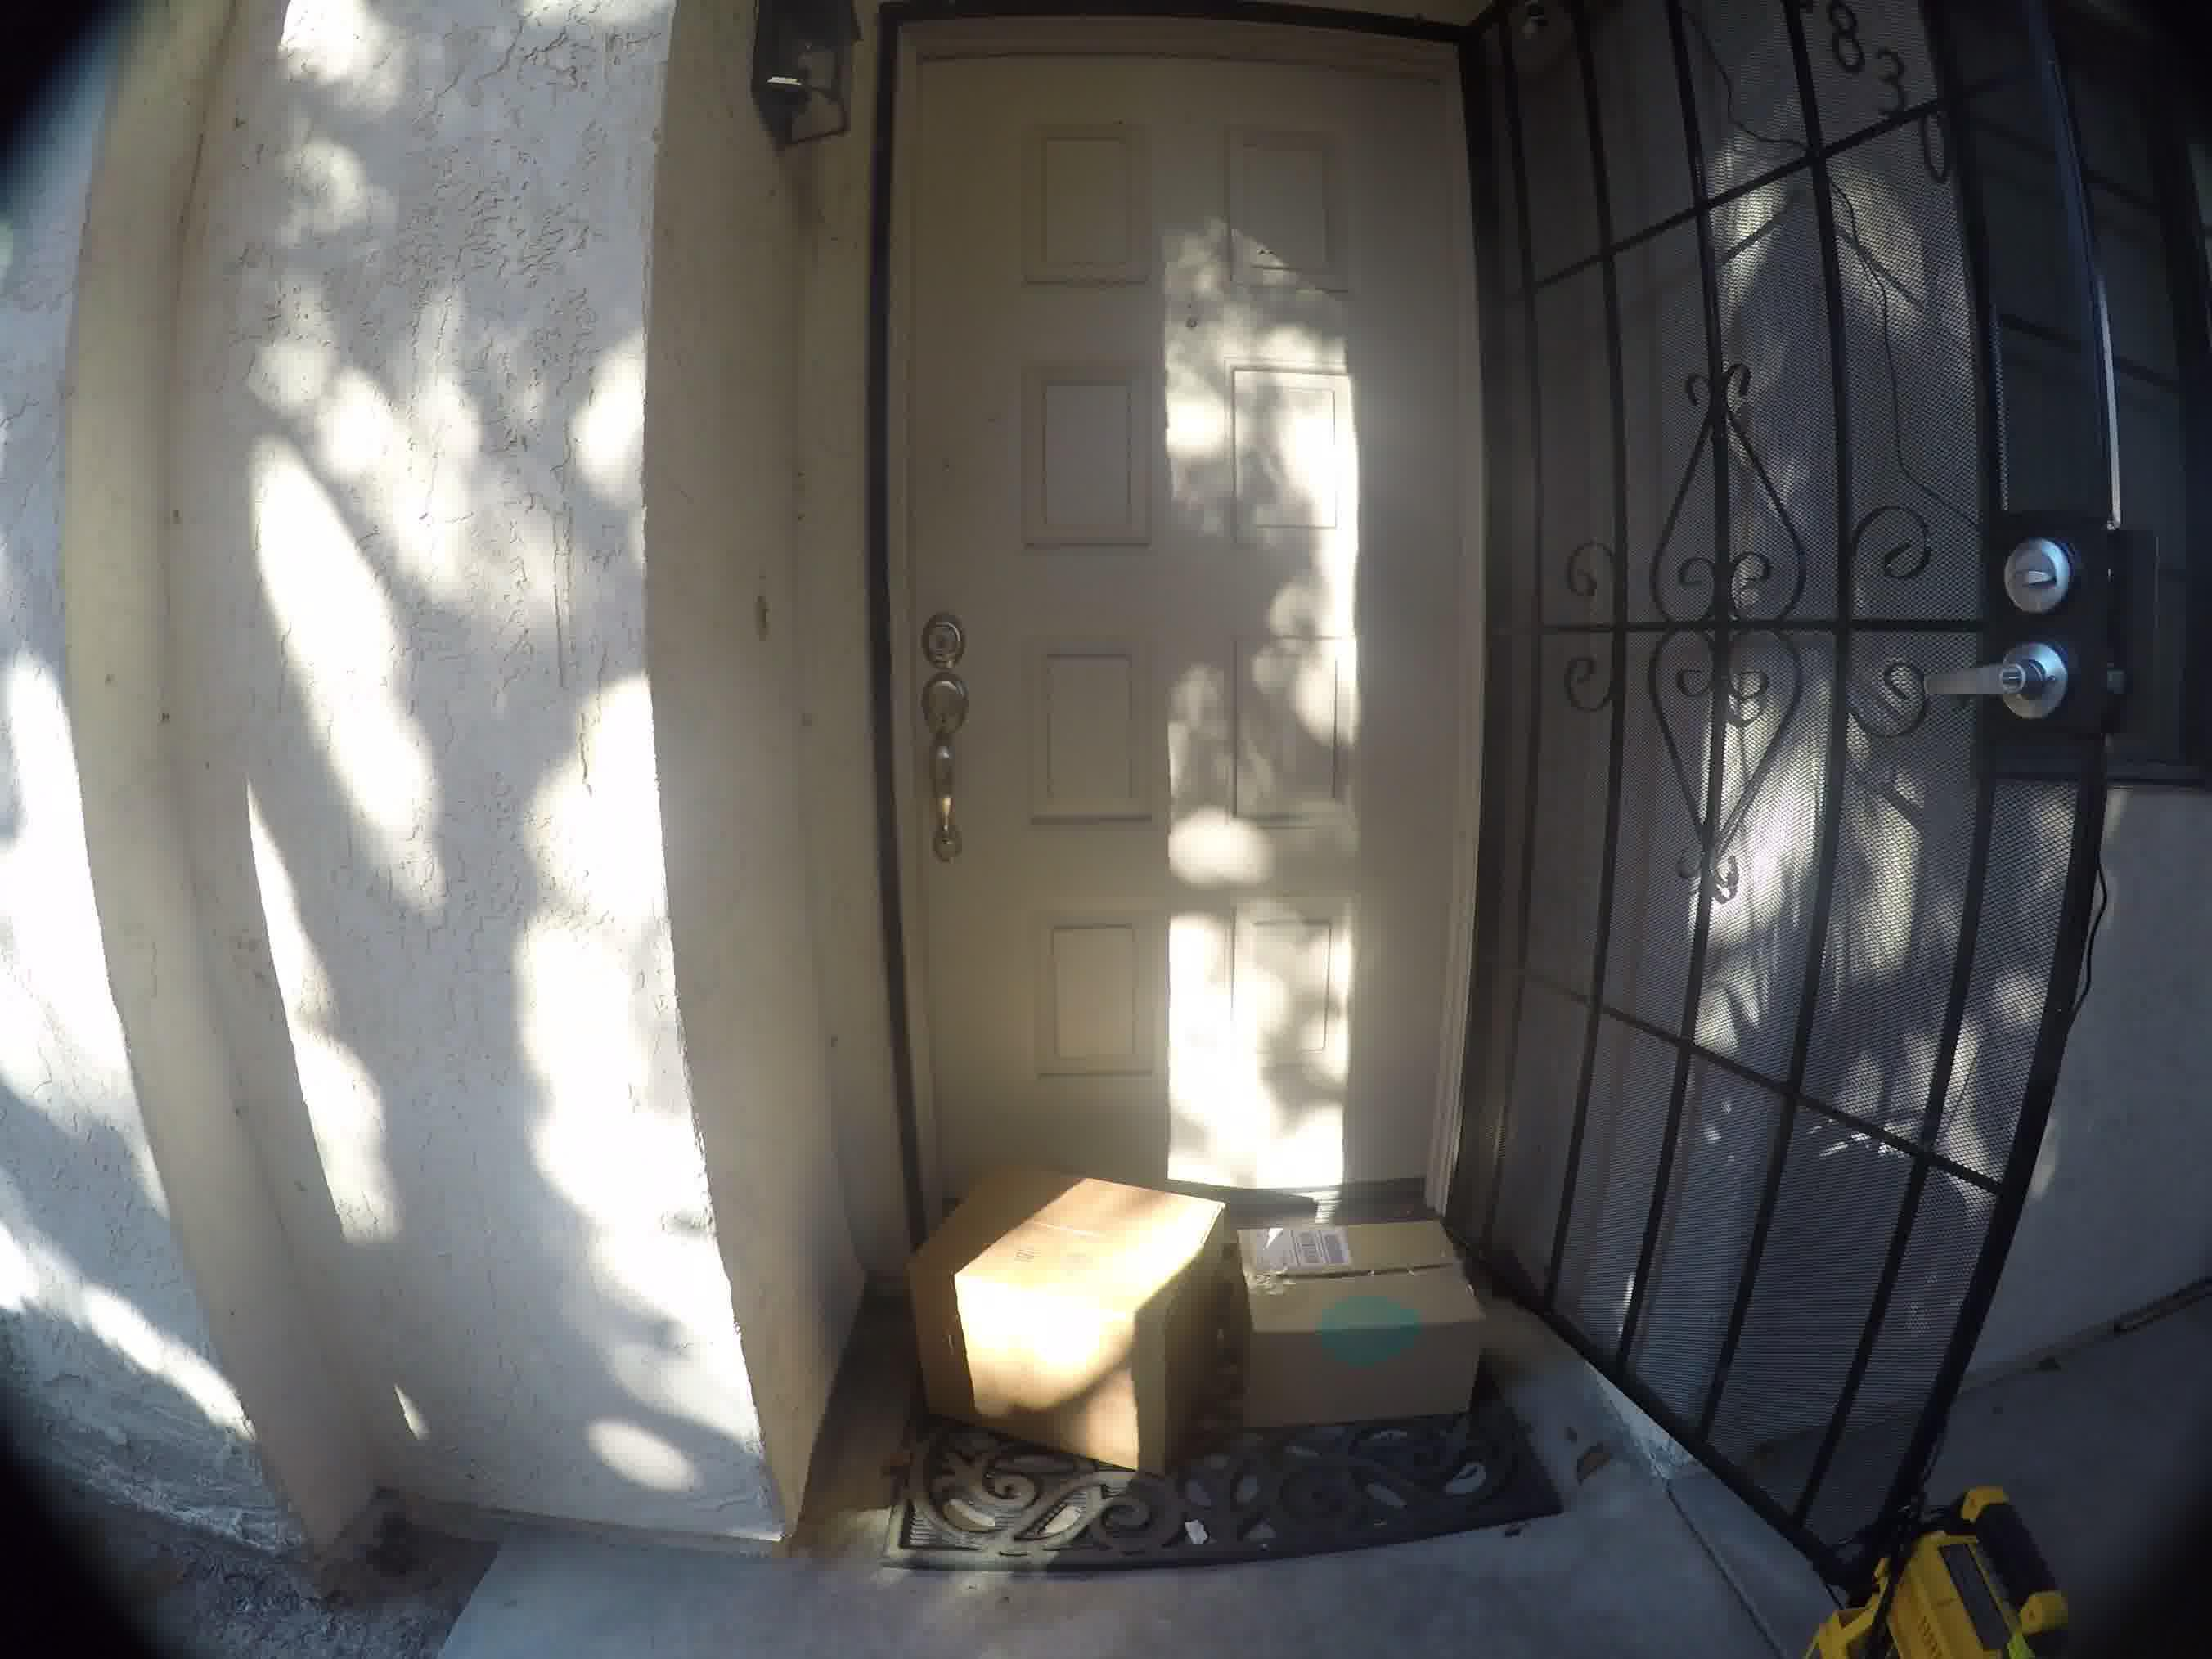box: (902, 1155, 1219, 1485), (1240, 1211, 1505, 1452)
